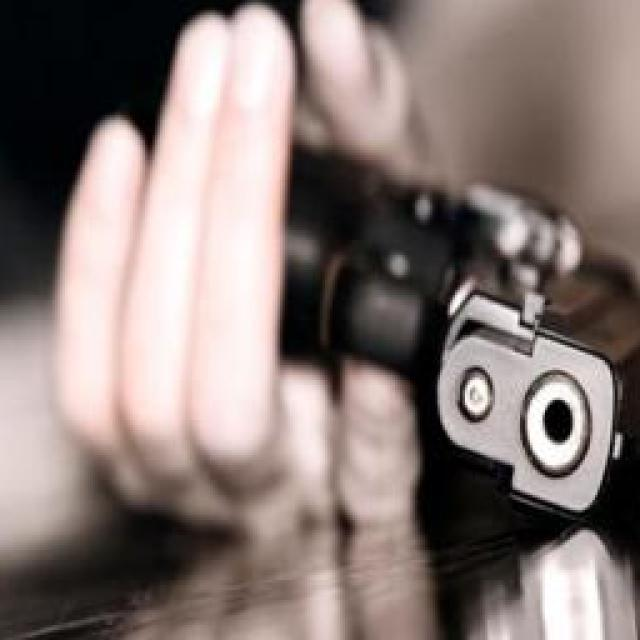pistol: (198, 145, 640, 520)
